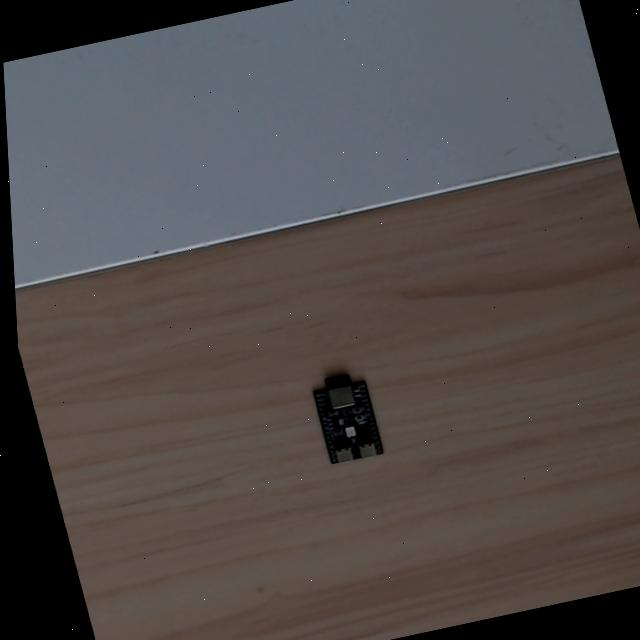ESP32C3-DevKit: (304, 362, 387, 470)
